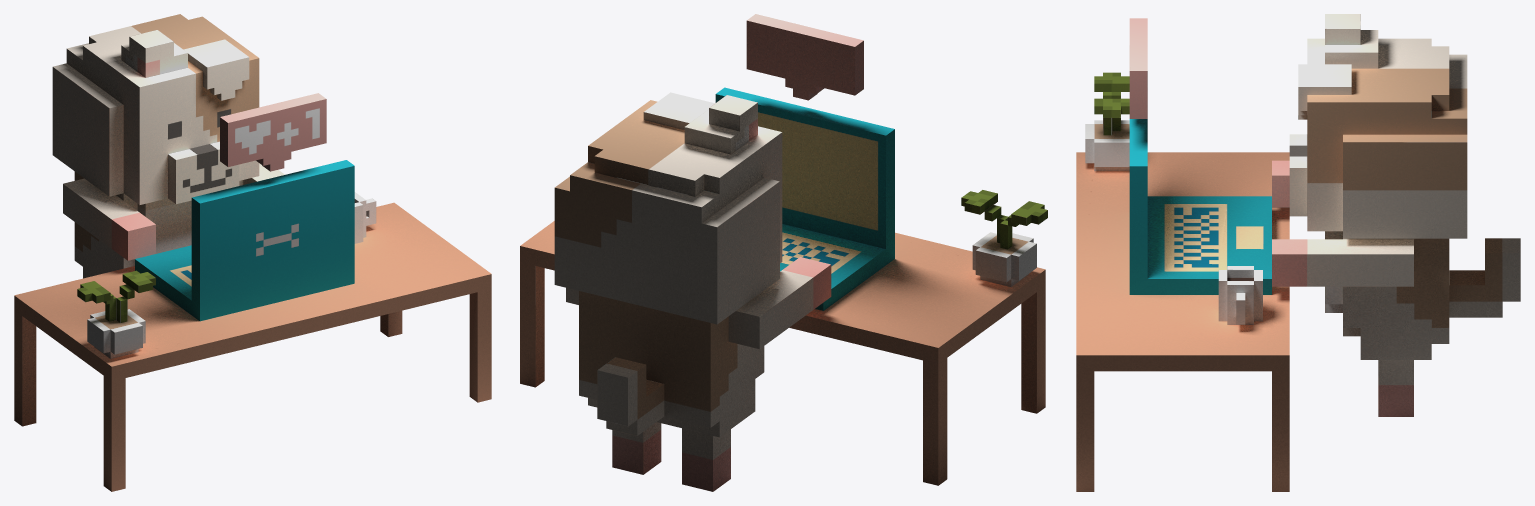
File: dog.glb
3 renders of one model, left to right at view 1: azimuth 30°, elevation 25°; view 2: azimuth 150°, elevation 25°; view 3: azimuth 270°, elevation 25°, orthographic. The views are drawn at different scales.
Visible parts, largest first — view 1: main; view 2: main; view 3: main.
Boxes of the visible parts, x1=… form: main: x1=14, y1=14, x2=491, y2=491; main: x1=520, y1=14, x2=1047, y2=491; main: x1=1076, y1=14, x2=1520, y2=491.
Size of what is drawn, in the model's own units: 5.6 by 4.4 by 5.
Materials: 1 (1 with a texture image).
